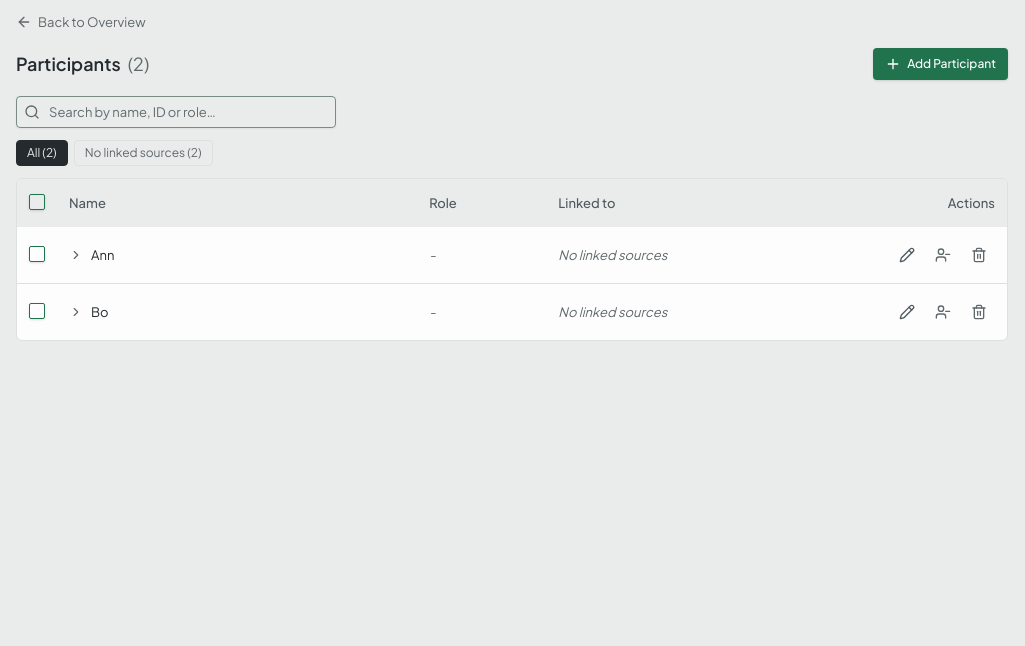
Test case: #1091 — what else the panel must survive › switching to another person starts their panel afresh — a half-made link does not carry over
Expected: the text "Ann" is shown, x1=91 y1=245 x2=114 y2=265
Click the text "Ann". click: (512,255)
box: x1=17 y1=227 x2=1007 y2=284
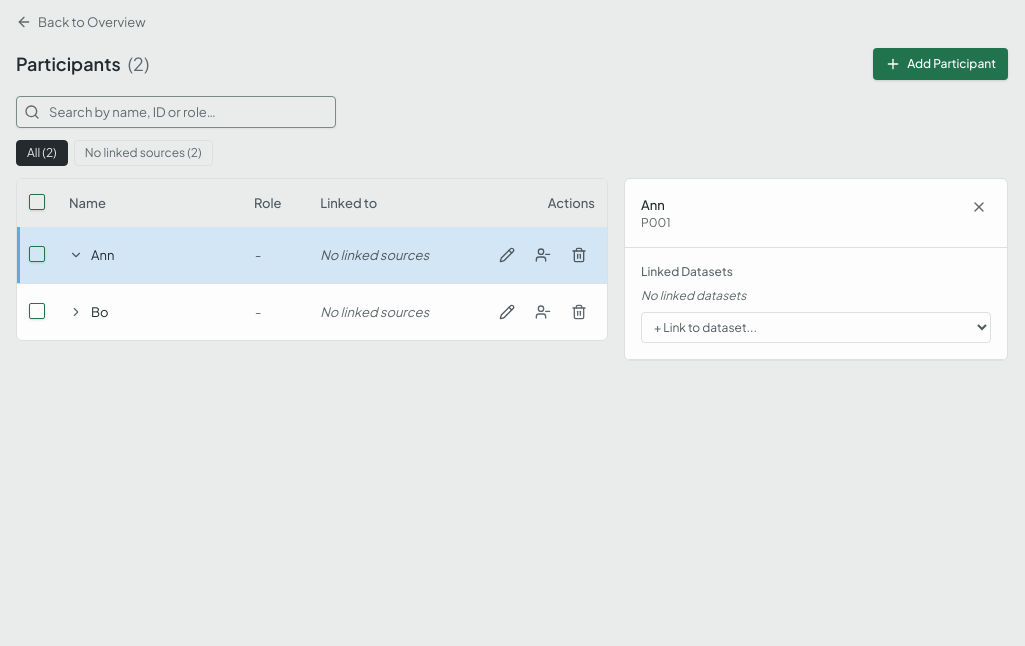
Select "Census" in the dropdown named "Link Ann to a dataset record". click: (816,328)
box: x1=641 y1=312 x2=991 y2=343
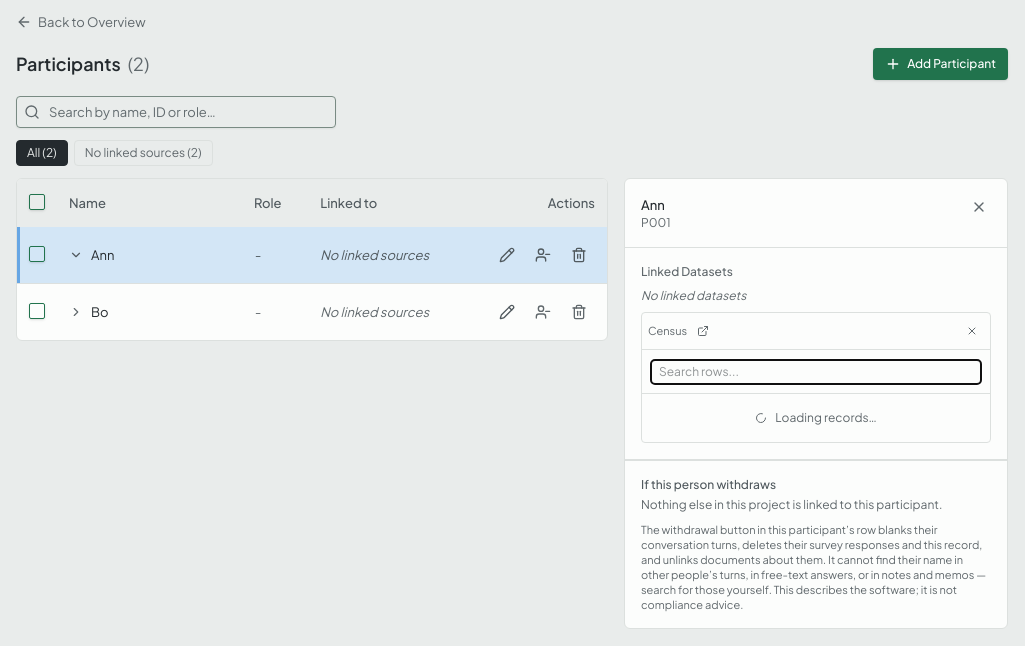
Now the field named "Search Census records" is shown, box x1=650 y1=359 x2=982 y2=385
Click the text "Bo". click: (375,312)
box: x1=17 y1=284 x2=607 y2=340
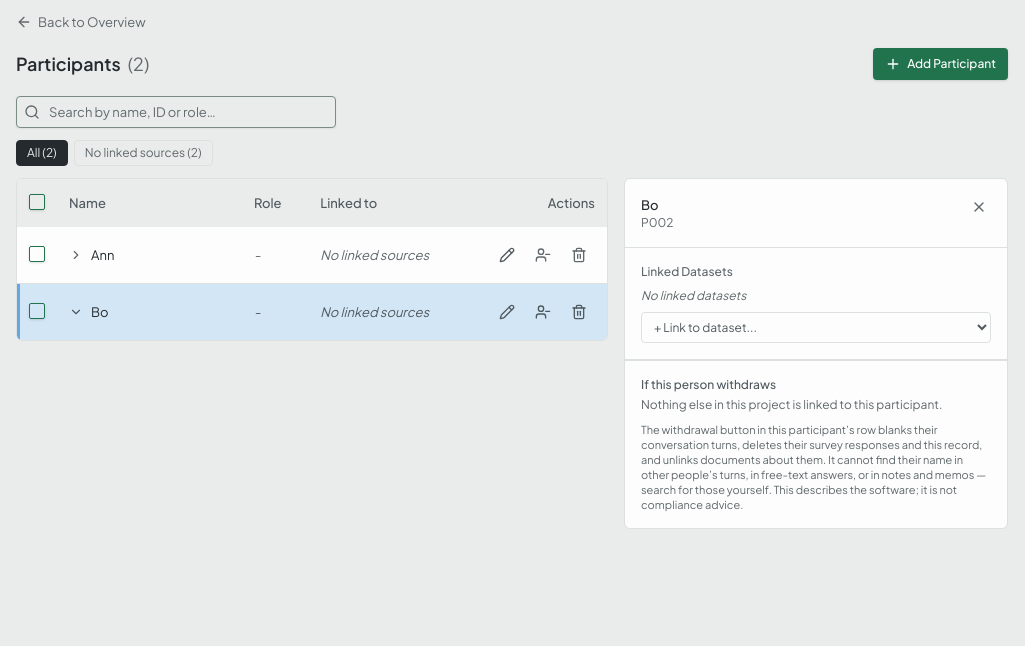
Now the heading "Bo" is shown, box x1=641 y1=197 x2=658 y2=213
Now the dropdown named "Link Bo to a dataset record" is shown, box x1=641 y1=312 x2=991 y2=343
